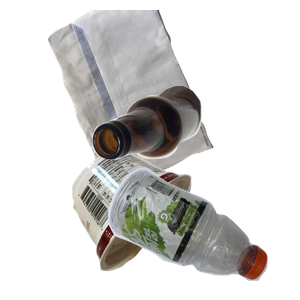glass: (90, 83, 300, 235)
paper: (45, 10, 251, 190)
plastic: (105, 165, 300, 300)
trash: (70, 149, 254, 300)
